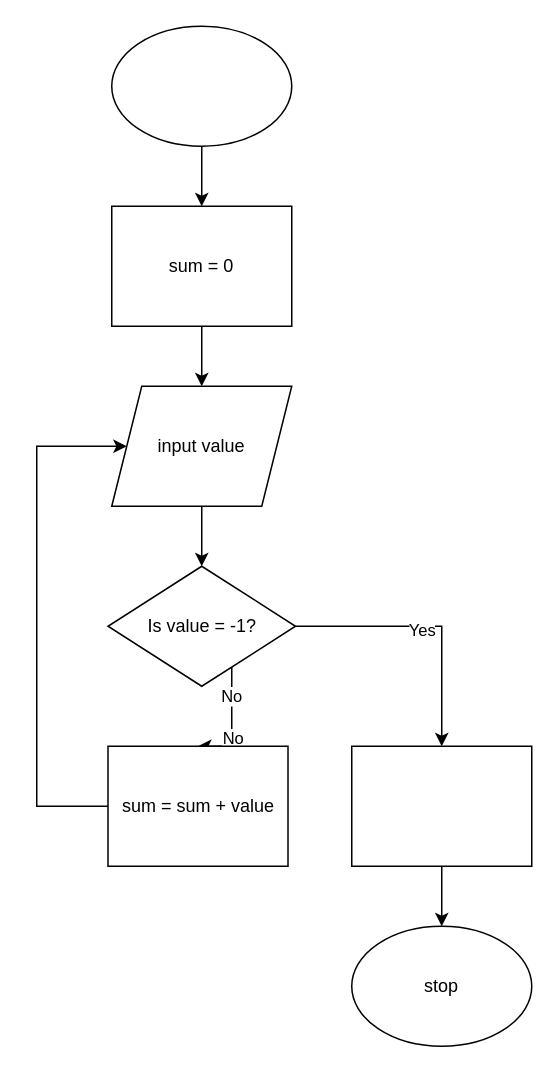
Image size: 558x1073. Some labels were removed from this diagram. Here are the shapes that lost their labels. From the top down, the centre of each, then its label:
the point at 201,85: start
the point at 441,805: output sum
